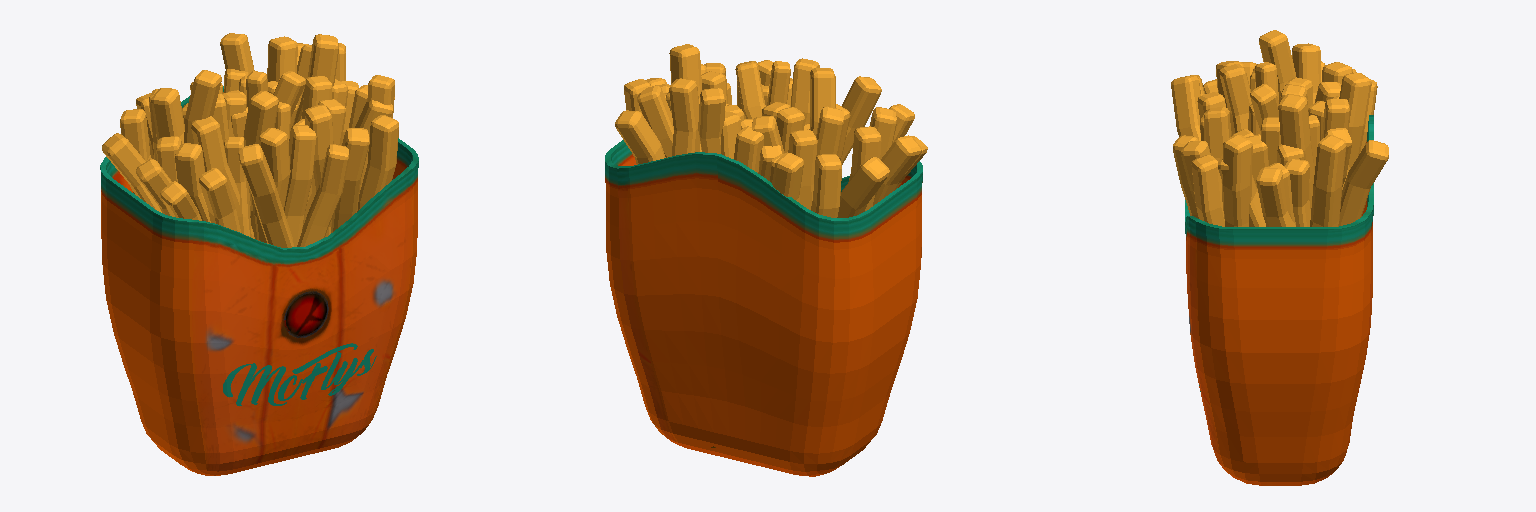
3 renders of one model, left to right at view 1: azimuth 30°, elevation 25°; view 2: azimuth 150°, elevation 25°; view 3: azimuth 270°, elevation 25°, orthographic.
Visible parts, largest first — view 1: fant_fries; view 2: fant_fries; view 3: fant_fries.
Part boxes in pixels (bbox=[...]): fant_fries: bbox=[100, 33, 418, 475]; fant_fries: bbox=[605, 44, 927, 476]; fant_fries: bbox=[1171, 30, 1388, 485].
Size of the model in its own units: 2.03 by 2.85 by 1.42.
Materials: 2 (2 with a texture image).